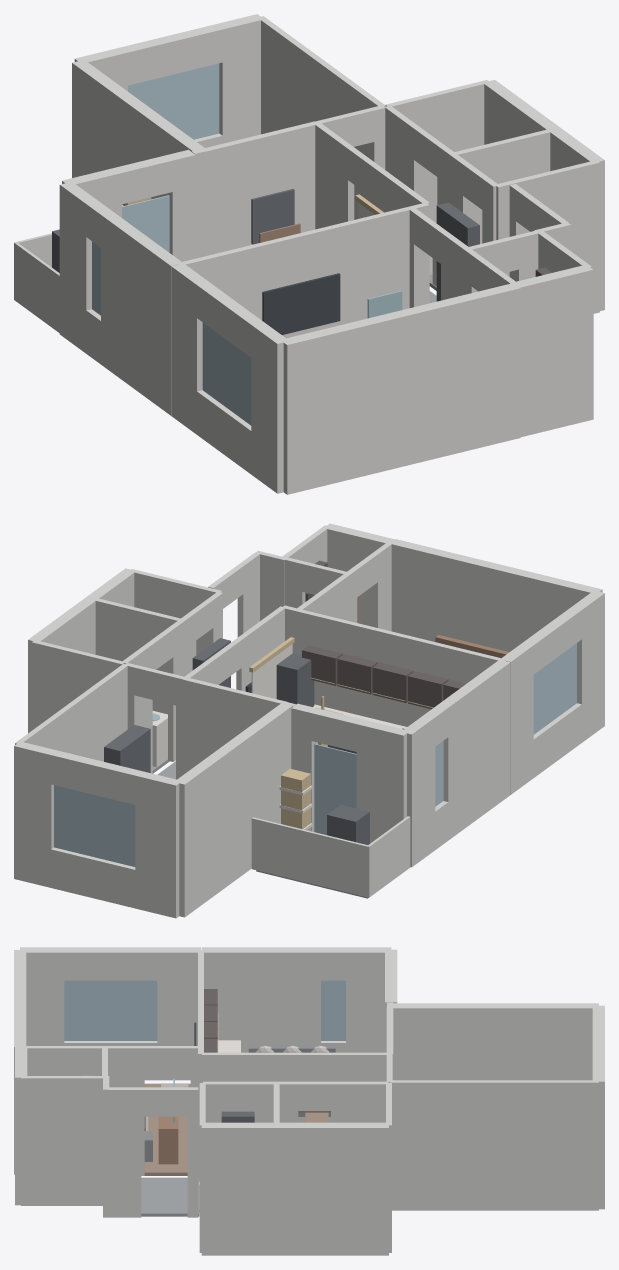
File: kvartira-graphite-two-dinner.glb
3 renders of one model, top to bottom at view 1: azimuth 30°, elevation 25°; view 2: azimuth 150°, elevation 25°; view 3: azimuth 270°, elevation 25°, orthographic. The views are drawn at different scales.
Visible parts, largest first — view 1: wall_w_l_s_166_612_0.0, wall_w_dividing_168_644_0.0, wall_w_closet_s_612_752_0.0, wall_w_k_w_559_791_0.0, wall_w_top_s_426_660_0.0, wall_w_top_w_20_423_0.0, wall_w_top_e_20_425_0.0, wall_w_wc_s_777_971_0.0, wall_w_l_w_1057_1143_0.0, wall_w_top_n_691_771_0.0, wall_w_bath_n_777_971_0.0, wall_w_k_w_423_511_0.0 (+40 smaller); view 2: wall_w_l_s_166_612_0.0, wall_w_top_w_20_423_0.0, wall_w_dividing_168_644_0.0, wall_w_k_w_559_791_0.0, wall_w_top_n_422_510_0.0, wall_w_log_n_159_409_0.0, wall_w_top_n_691_771_0.0, wall_w_top_e_20_425_0.0, wall_w_top_n_510_691_0.8, wall_w_k_n1_165_266_0.0, wall_w_k_n2_408_643_0.0, wall_w_bath_n_777_971_0.0 (+51 smaller); view 3: wall_w_top_e_20_425_0.0, wall_w_bath_e_427_791_0.0, wall_w_top_w_20_423_0.0, wall_w_k_w_559_791_0.0, wall_w_closet_e_978_1141_0.0, wall_w_l_w_877_1057_0.8, wall_w_entry_e_908_972_0.0, wall_w_l_w_792_877_0.0, wall_w_k_w_423_511_0.0, wall_w_l_w_1057_1143_0.0, wall_w_l_w_877_1057_2.1, wall_w_k_e_625_790_0.0 (+28 smaller).
Part boxes in pixels (x1,y1,x2,y2): wall_w_l_s_166_612_0.0: (281, 283, 520, 494); wall_w_dividing_168_644_0.0: (178, 202, 429, 338); wall_w_closet_s_612_752_0.0: (516, 265, 593, 437); wall_w_k_w_559_791_0.0: (101, 212, 182, 415); wall_w_top_s_426_660_0.0: (204, 119, 327, 256); wall_w_top_w_20_423_0.0: (72, 60, 204, 199); wall_w_top_e_20_425_0.0: (258, 16, 385, 219); wall_w_wc_s_777_971_0.0: (495, 161, 599, 313); wall_w_l_w_1057_1143_0.0: (251, 322, 289, 493); wall_w_top_n_691_771_0.0: (216, 14, 263, 143); wall_w_bath_n_777_971_0.0: (385, 80, 489, 223); wall_w_k_w_423_511_0.0: (59, 183, 98, 353); wall_w_l_s_166_612_0.0: (390, 539, 602, 651); wall_w_top_w_20_423_0.0: (174, 703, 292, 917); wall_w_dividing_168_644_0.0: (282, 605, 505, 726); wall_w_k_w_559_791_0.0: (437, 659, 510, 840); wall_w_top_n_422_510_0.0: (135, 771, 181, 918); wall_w_log_n_159_409_0.0: (251, 817, 368, 897); wall_w_top_n_691_771_0.0: (14, 742, 56, 887); wall_w_top_e_20_425_0.0: (15, 663, 127, 761); wall_w_top_n_510_691_0.8: (54, 785, 135, 866); wall_w_k_n1_165_266_0.0: (356, 719, 409, 843); wall_w_k_n2_408_643_0.0: (183, 679, 295, 774); wall_w_bath_n_777_971_0.0: (32, 641, 124, 730); wall_w_top_e_20_425_0.0: (390, 1080, 598, 1210); wall_w_bath_e_427_791_0.0: (201, 1122, 388, 1255); wall_w_top_w_20_423_0.0: (391, 1003, 598, 1080); wall_w_k_w_559_791_0.0: (201, 947, 320, 1052); wall_w_closet_e_978_1141_0.0: (21, 1076, 104, 1205); wall_w_l_w_877_1057_0.8: (64, 980, 157, 1040); wall_w_entry_e_908_972_0.0: (108, 1087, 141, 1217); wall_w_l_w_792_877_0.0: (157, 947, 200, 1080); wall_w_k_w_423_511_0.0: (346, 947, 391, 1052); wall_w_l_w_1057_1143_0.0: (20, 947, 64, 1045); wall_w_l_w_877_1057_2.1: (64, 947, 157, 980); wall_w_k_e_625_790_0.0: (202, 1052, 286, 1111).
Size of the model in its own units: 8.24 by 2.77 by 11.41.
